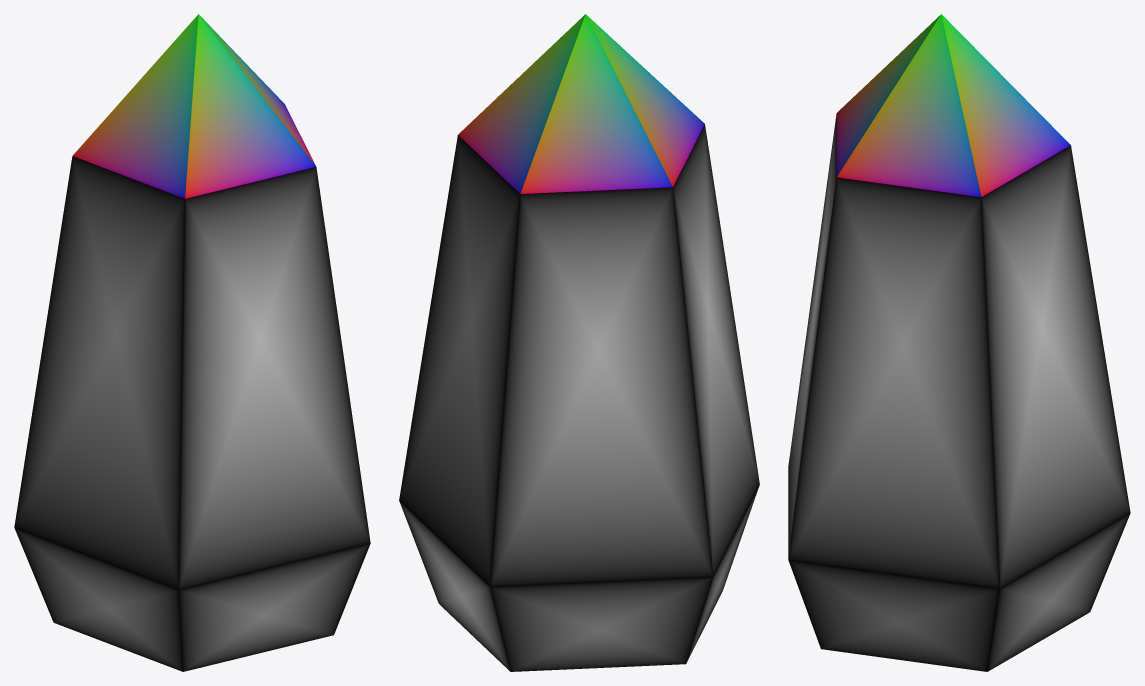
The model's file is SingleCristal.fbx.
3 renders of one model, left to right at view 1: azimuth 30°, elevation 25°; view 2: azimuth 150°, elevation 25°; view 3: azimuth 270°, elevation 25°, orthographic.
Visible parts, largest first — view 1: SingleCristal; view 2: SingleCristal; view 3: SingleCristal.
Boxes of the visible parts, box(x1,y1,x2,y2) form: SingleCristal: box(14, 14, 370, 671); SingleCristal: box(399, 14, 759, 671); SingleCristal: box(788, 14, 1130, 671).
Bounding box in the file's own units: 190 × 349 × 181.
